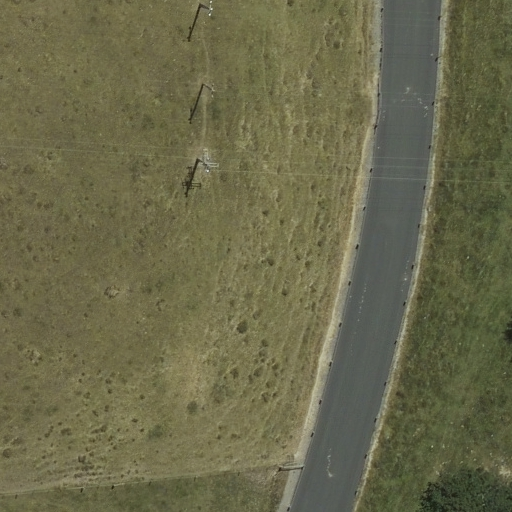DT: (180, 145, 221, 198), (189, 78, 218, 127), (186, 1, 215, 44)
